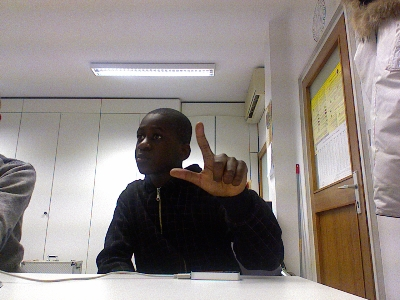枪: (168, 120, 249, 198)
